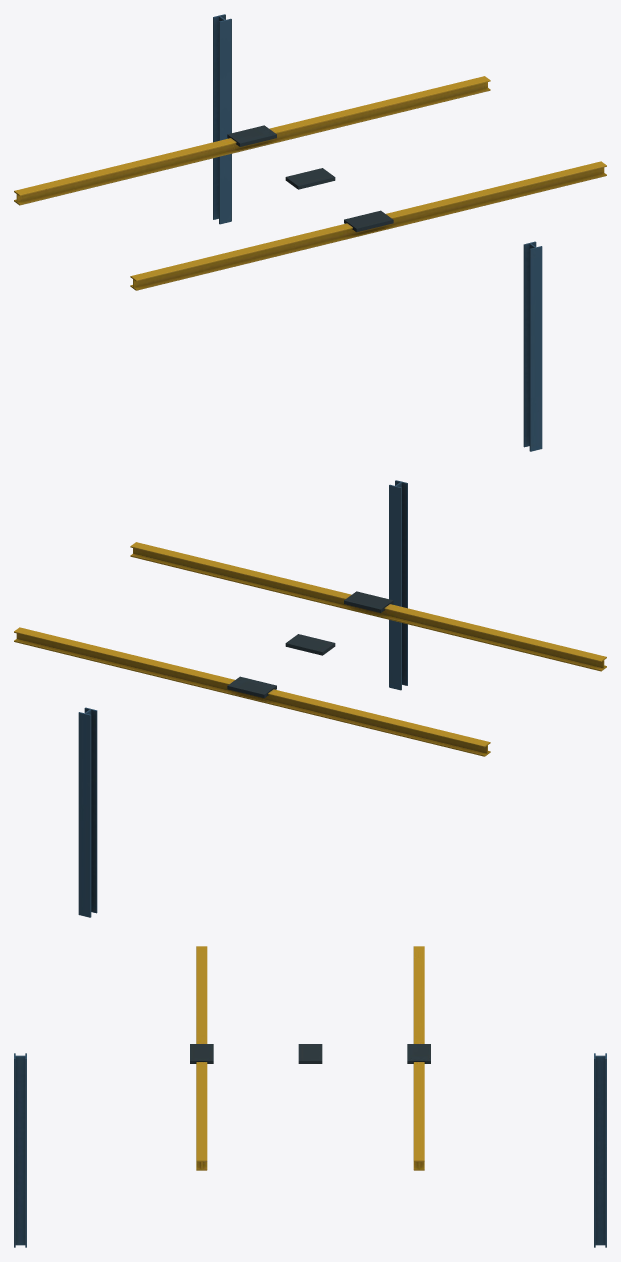
The model's file is wrap_track_v4.glb.
3 renders of one model, top to bottom at view 1: azimuth 30°, elevation 25°; view 2: azimuth 150°, elevation 25°; view 3: azimuth 270°, elevation 25°, orthographic. The views are drawn at different scales.
Visible parts, largest first — view 1: body; view 2: body; view 3: body.
Boxes of the visible parts, x1,y1,x2,y2 form: body: (14,14,606,451); body: (14,480,606,917); body: (14,946,606,1247).
Bounding box in the file's own units: 14 × 5.75 × 16.36.
1 material, 1 textured.
